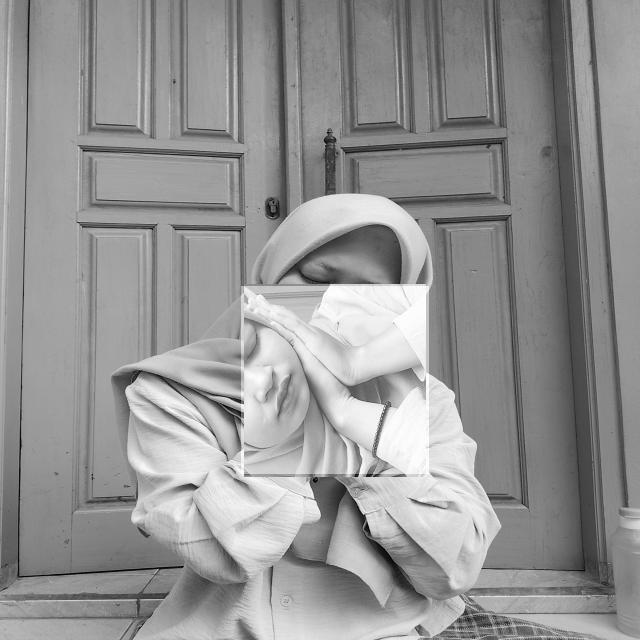tidur: (241, 286, 429, 474)
